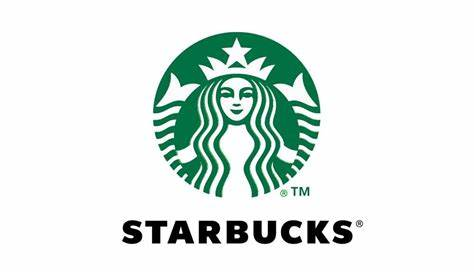starbucks Originale: (145, 27, 331, 205)
